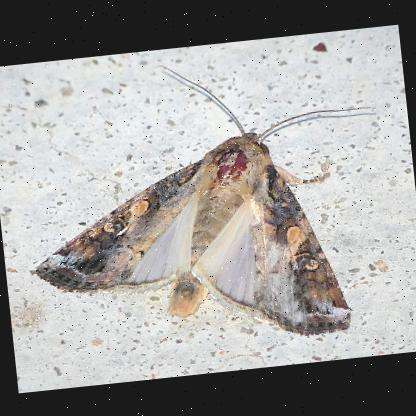Fall Armyworm Moth: (10, 39, 403, 367)
